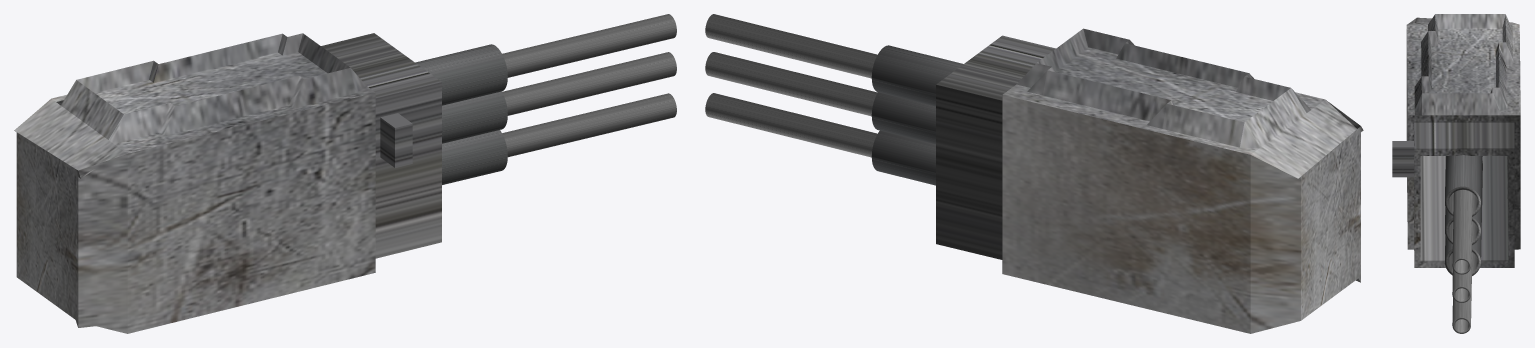
Rendered from pieza4.fbx.
3 views of the same model, side by side, from view 1: azimuth 30°, elevation 25°; view 2: azimuth 150°, elevation 25°; view 3: azimuth 270°, elevation 25° (orthographic). The views are drawn at different scales.
Visible parts, largest first — view 1: Cube.012; view 2: Cube.012; view 3: Cube.012.
Part boxes in pixels (x1=…): Cube.012: x1=14, y1=14, x2=676, y2=333; Cube.012: x1=705, y1=14, x2=1363, y2=333; Cube.012: x1=1392, y1=14, x2=1520, y2=333.
Size of the model in its own units: 589 by 182 by 141.
Materials: 4 (4 with a texture image).
